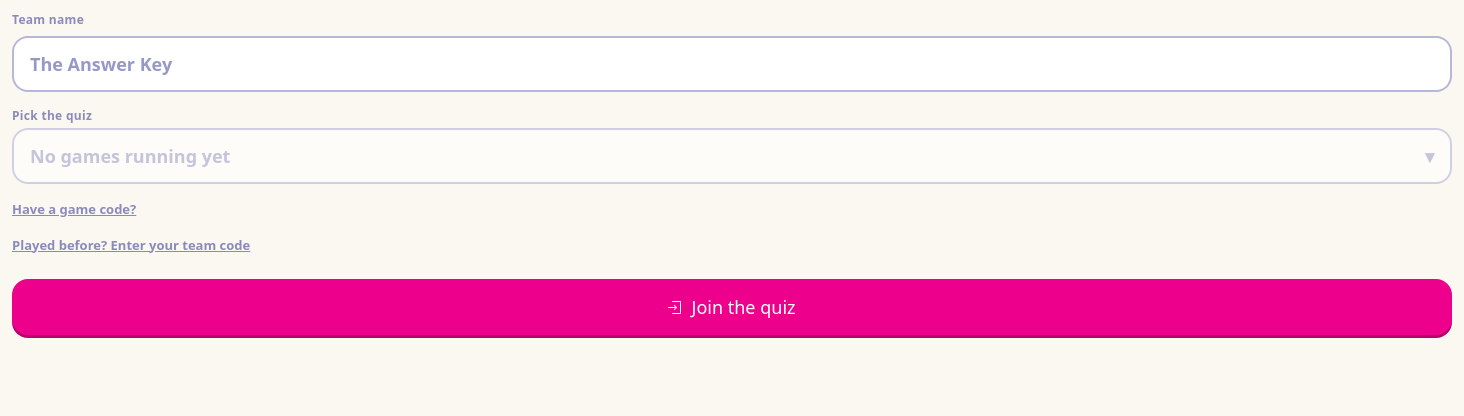
it: JoinForm › hides the game code field until "Have a game code?" is clicked
The width and height of the screenshot is (1464, 416).
Expected: the field labelled "Team name" is shown, [12,36,1452,92]
Click the button "Have a game code?".
click(74, 210)  # box [12,200,136,220]
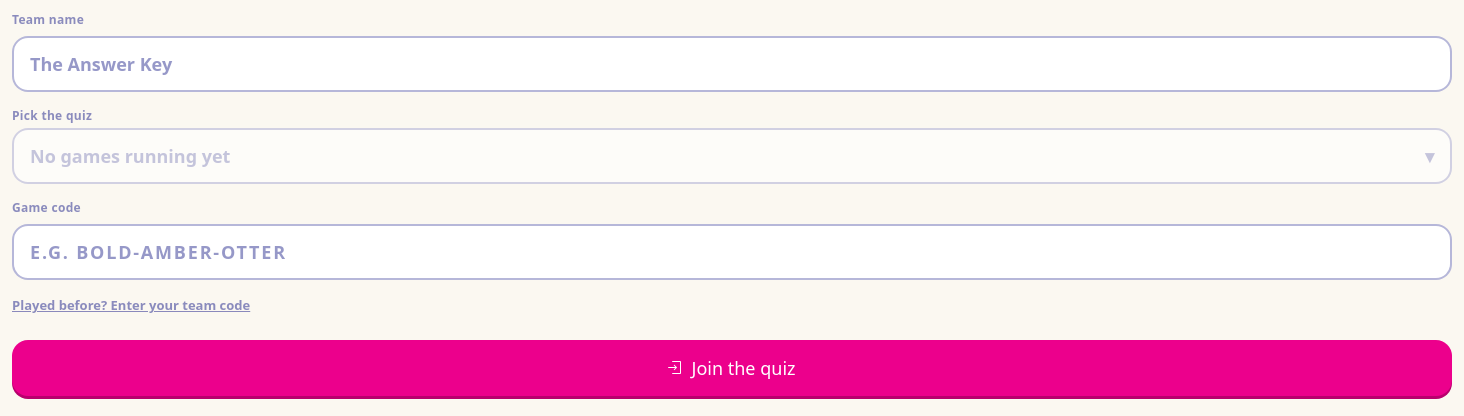
Expected: the field labelled "Game code" is shown, [12,224,1452,280]
